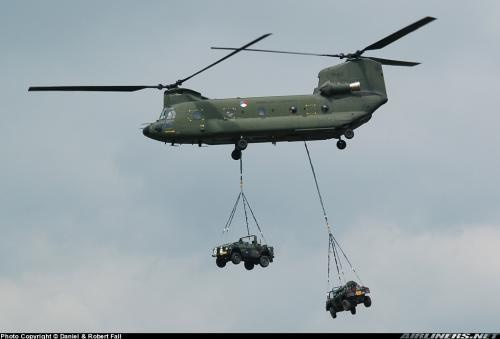airplane: (27, 16, 451, 146)
